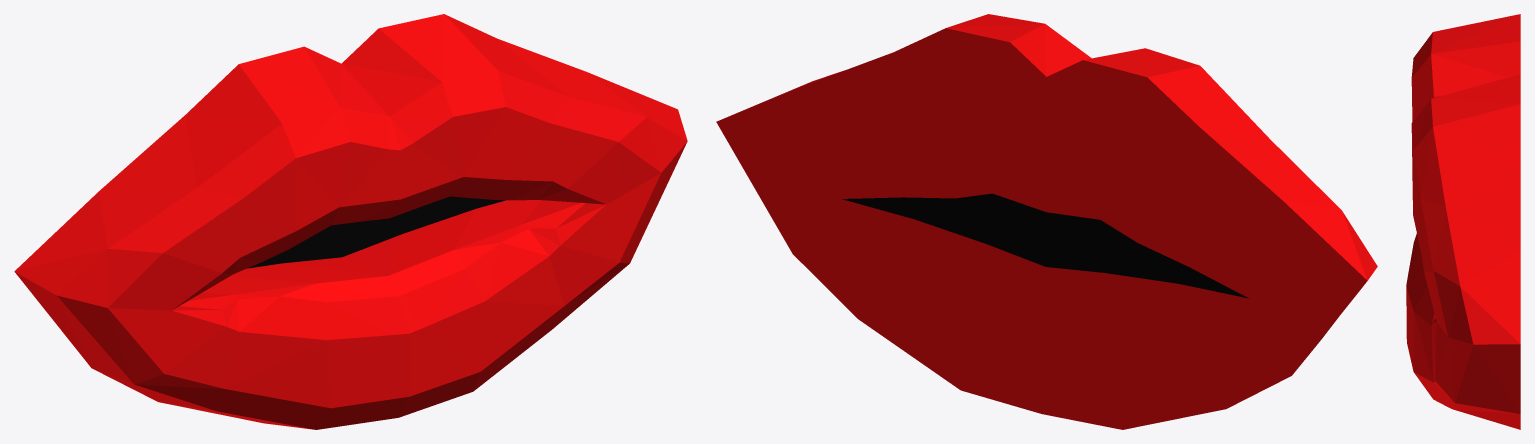
Rendered from Lips.obj.
The picture shows the model from 3 angles, left to right: view 1: azimuth 30°, elevation 25°; view 2: azimuth 150°, elevation 25°; view 3: azimuth 270°, elevation 25°; orthographic projection. The views are drawn at different scales.
Visible parts, largest first — view 1: Plane; view 2: Plane; view 3: Plane.
Part boxes in pixels (bbox=[...]): Plane: bbox=[14, 14, 687, 429]; Plane: bbox=[716, 14, 1377, 429]; Plane: bbox=[1406, 14, 1520, 429].
Bounding box in the file's own units: 2.01 × 1.07 × 0.333.
